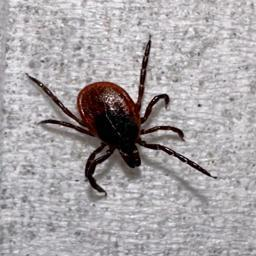Ixodes scapularis: (25, 39, 213, 193)
